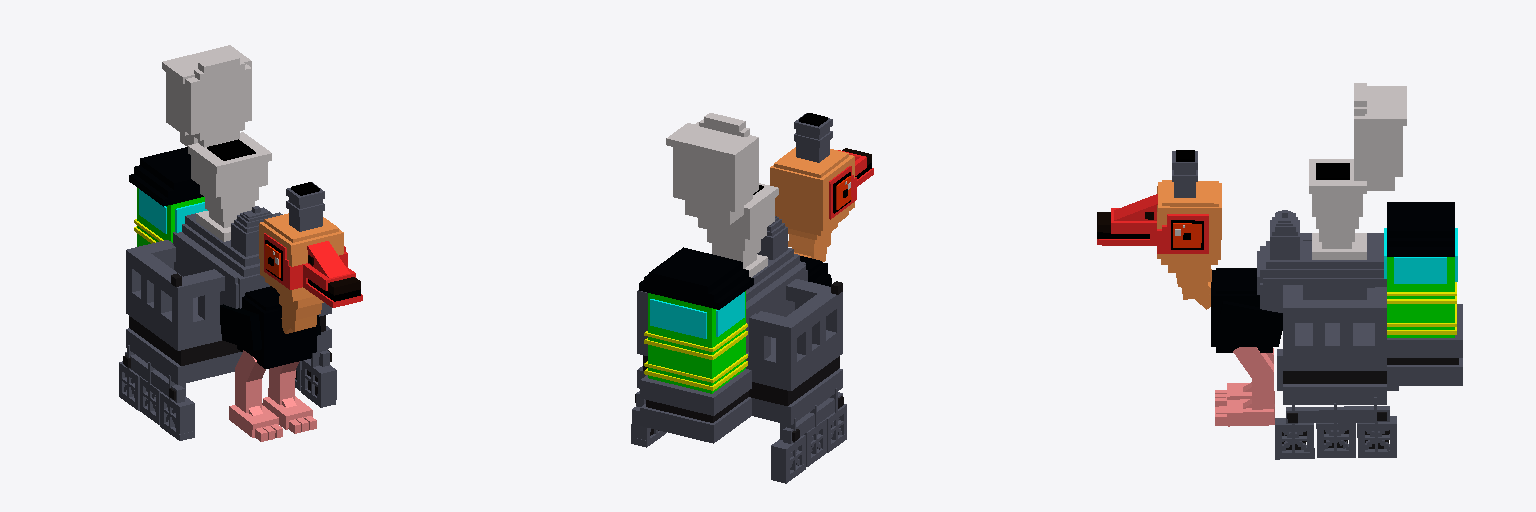
File: Emo.obj
3 renders of one model, left to right at view 1: azimuth 30°, elevation 25°; view 2: azimuth 150°, elevation 25°; view 3: azimuth 270°, elevation 25°, orthographic.
Visible parts, largest first — view 1: Part169, Part163, Part244, Part175, Part243, Part238, Part237, Part165, Part214, Part172, Part241, Part246 (+28 smaller); view 2: Part221, Part242, Part237, Part169, Part214, Part170, Part166, Part246, Part163, Part217, Part236, Part165 (+22 smaller); view 3: Part169, Part221, Part214, Part173, Part163, Part242, Part170, Part228, Part166, Part246, Part237, Part192 (+26 smaller).
Part boxes in pixels (x1,y1,x2,y2): Part169: (126, 289, 331, 350); Part163: (126, 326, 331, 384); Part244: (194, 60, 244, 140); Part175: (239, 296, 316, 364); Part243: (185, 64, 251, 134); Part238: (191, 156, 267, 197); Part237: (259, 222, 343, 296); Part165: (129, 315, 325, 365); Part214: (140, 147, 197, 189); Part172: (220, 304, 261, 350); Part241: (188, 132, 271, 173); Part246: (162, 45, 251, 83); Part221: (648, 291, 745, 393); Part242: (673, 147, 752, 211); Part237: (770, 155, 854, 230); Part169: (637, 329, 842, 390); Part214: (649, 247, 742, 293); Part170: (640, 369, 751, 415); Part166: (640, 397, 751, 443); Part246: (666, 123, 755, 161); Part163: (637, 366, 842, 424); Part217: (650, 299, 706, 338); Part236: (774, 147, 848, 235); Part165: (643, 355, 839, 405); Part169: (1283, 323, 1386, 370); Part221: (1387, 257, 1454, 337); Part214: (1387, 202, 1454, 237); Part173: (1216, 301, 1282, 346); Part163: (1283, 384, 1386, 404); Part242: (1367, 126, 1402, 176); Part170: (1387, 304, 1462, 357); Part228: (1266, 241, 1383, 268); Part166: (1387, 358, 1462, 385); Part246: (1365, 86, 1406, 125); Part237: (1157, 182, 1221, 259); Part192: (1260, 283, 1364, 322).
Bounding box in the file's own units: 38.1 × 75.64 × 75.76.